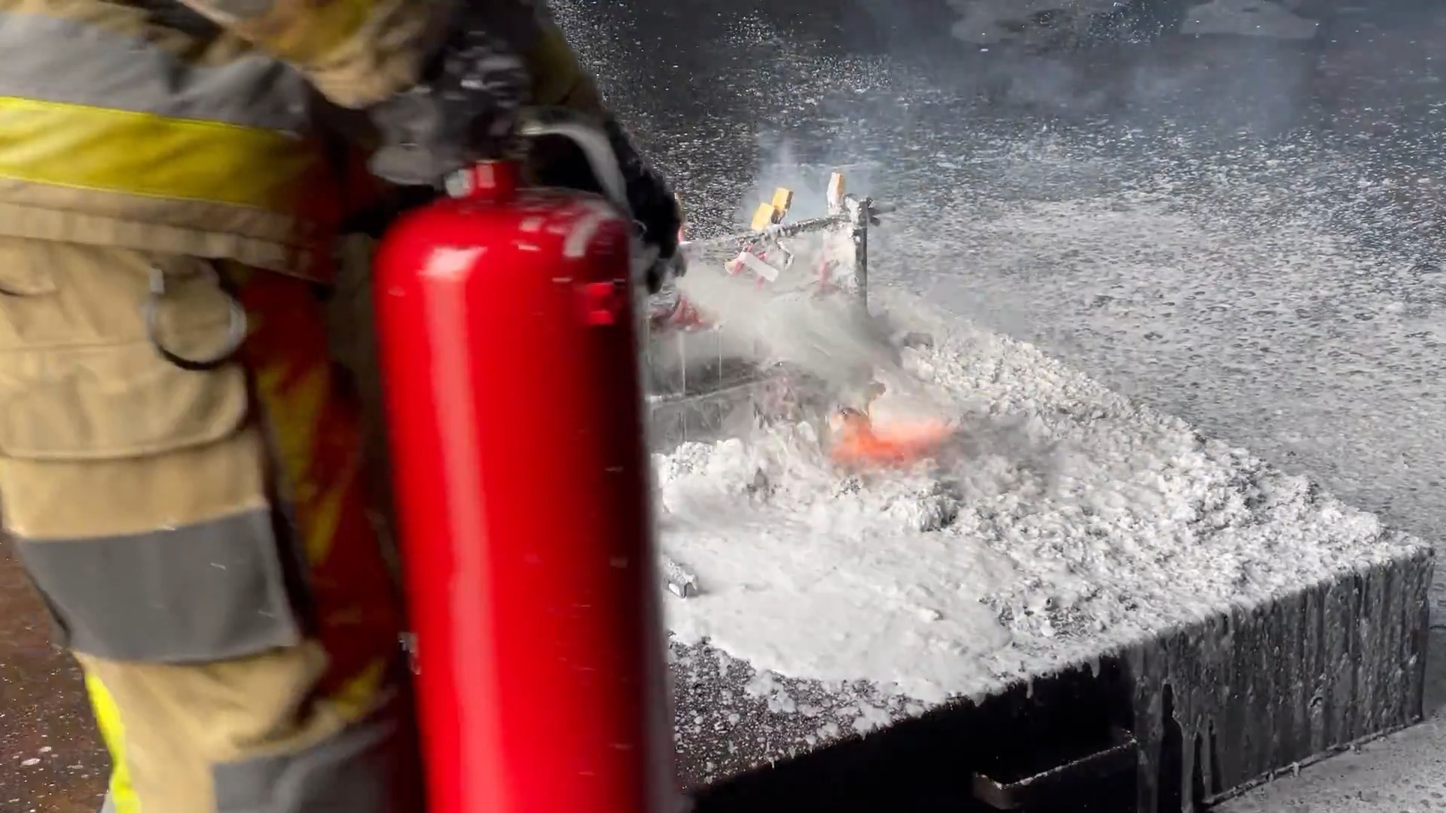fire: (824, 406, 962, 472)
smoke: (711, 12, 1033, 406)
